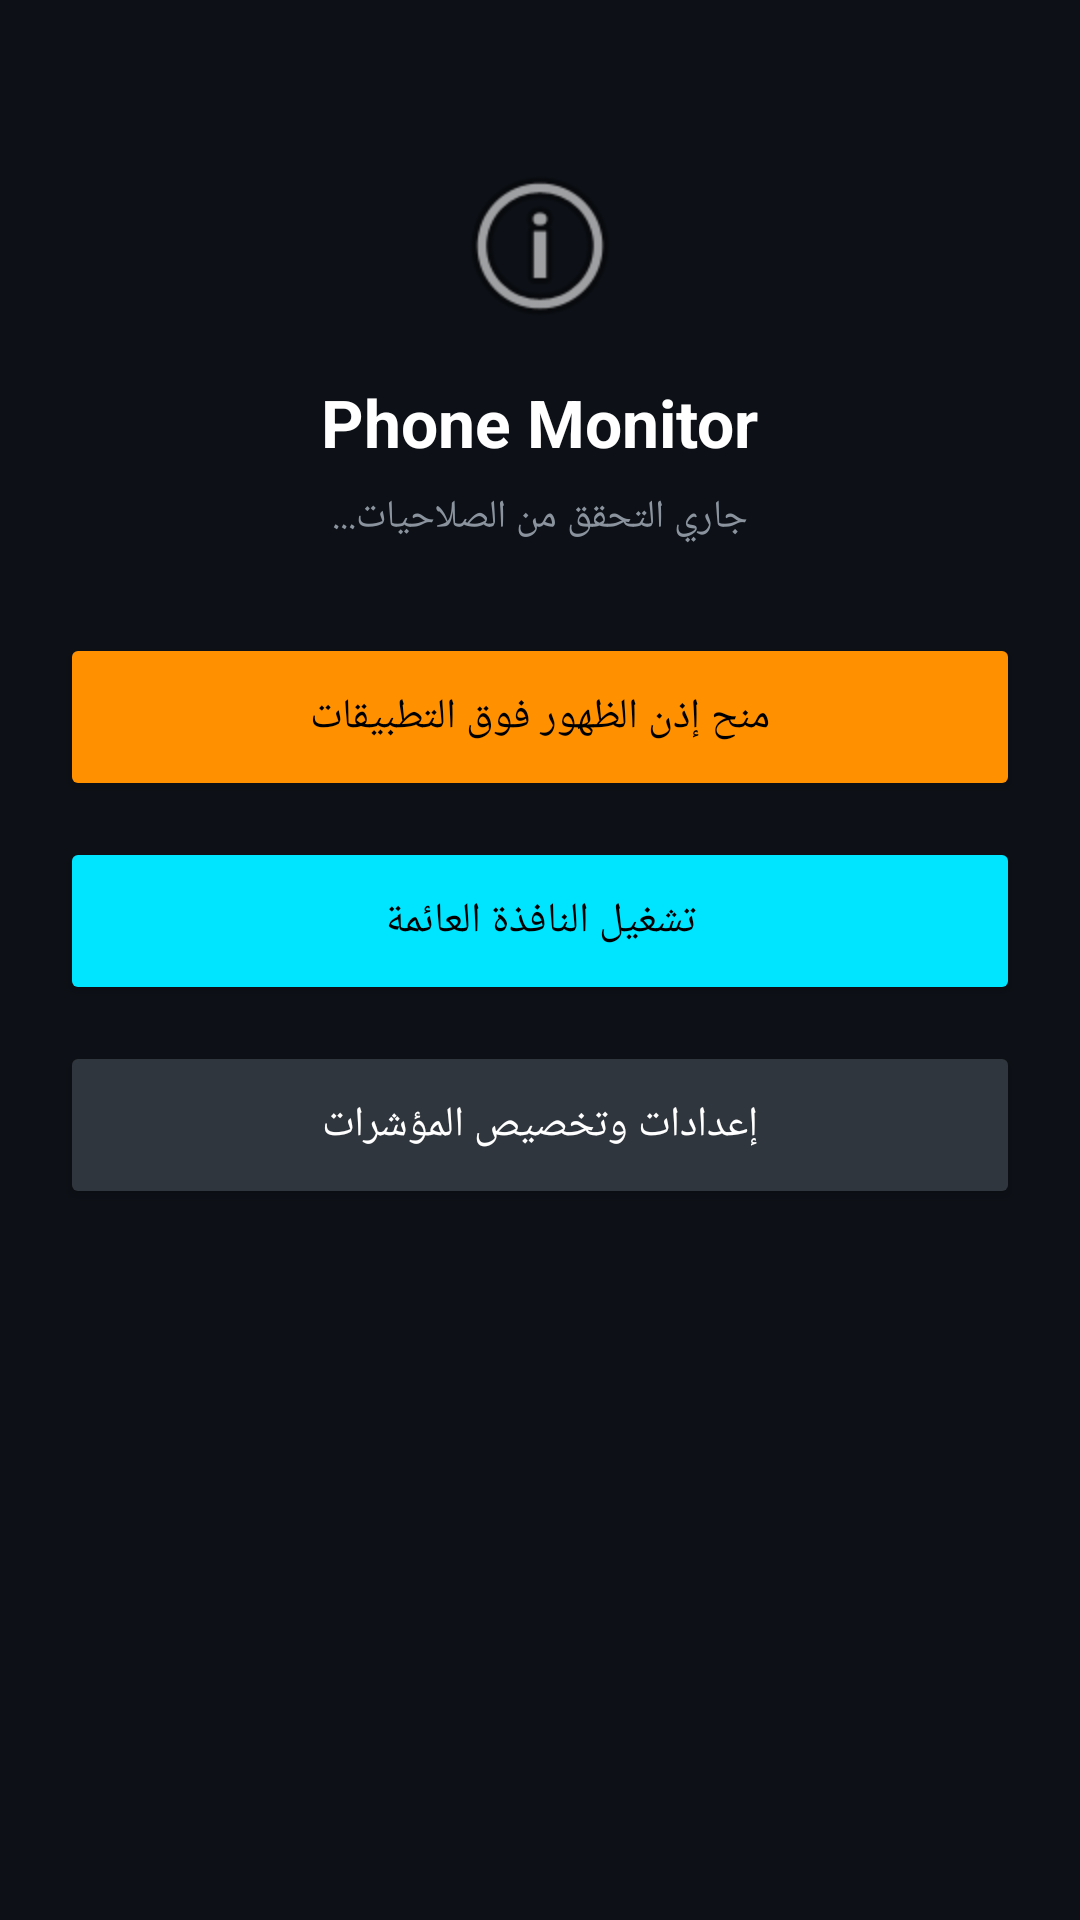

Icons on this 1080*1920 Android screen, each with its box as (x1, y1, x2, y2):
info details: (476, 183, 604, 309)
